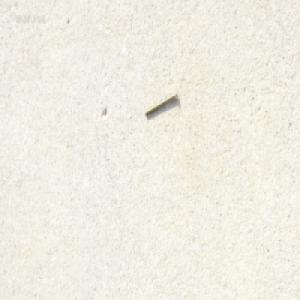Bolt: (144, 90, 177, 117)
